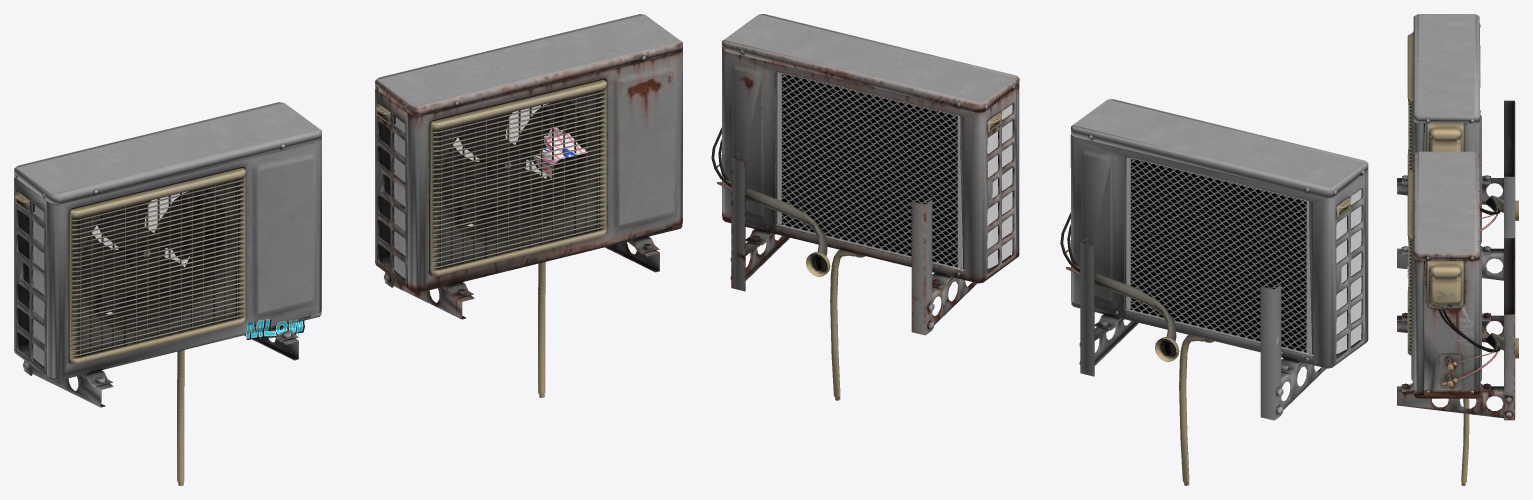
File: u_nyb_aircon.glb
3 views of the same model, side by side, from view 1: azimuth 30°, elevation 25°; view 2: azimuth 150°, elevation 25°; view 3: azimuth 270°, elevation 25° (orthographic). The views are drawn at different scales.
Parts seen in each view (by area): view 1: exterior_aircon_unit, stk_eyeflower_die.png, stk_tag_mlow_cyan.png; view 2: exterior_aircon_unit; view 3: exterior_aircon_unit.
Part boxes in pixels (<box>): exterior_aircon_unit: <box>14,14,682,485</box>; stk_eyeflower_die.png: <box>533,127,587,178</box>; stk_tag_mlow_cyan.png: <box>246,318,305,339</box>; exterior_aircon_unit: <box>711,14,1368,485</box>; exterior_aircon_unit: <box>1397,14,1518,485</box>.
Size of the model in its own units: 1.8 by 0.928 by 0.3742.
Materials: 6 (6 with a texture image).
